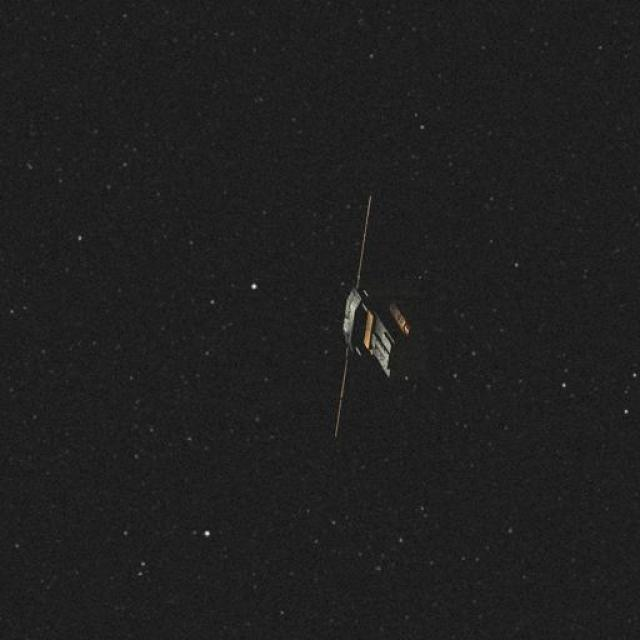soho: (298, 185, 450, 437)
